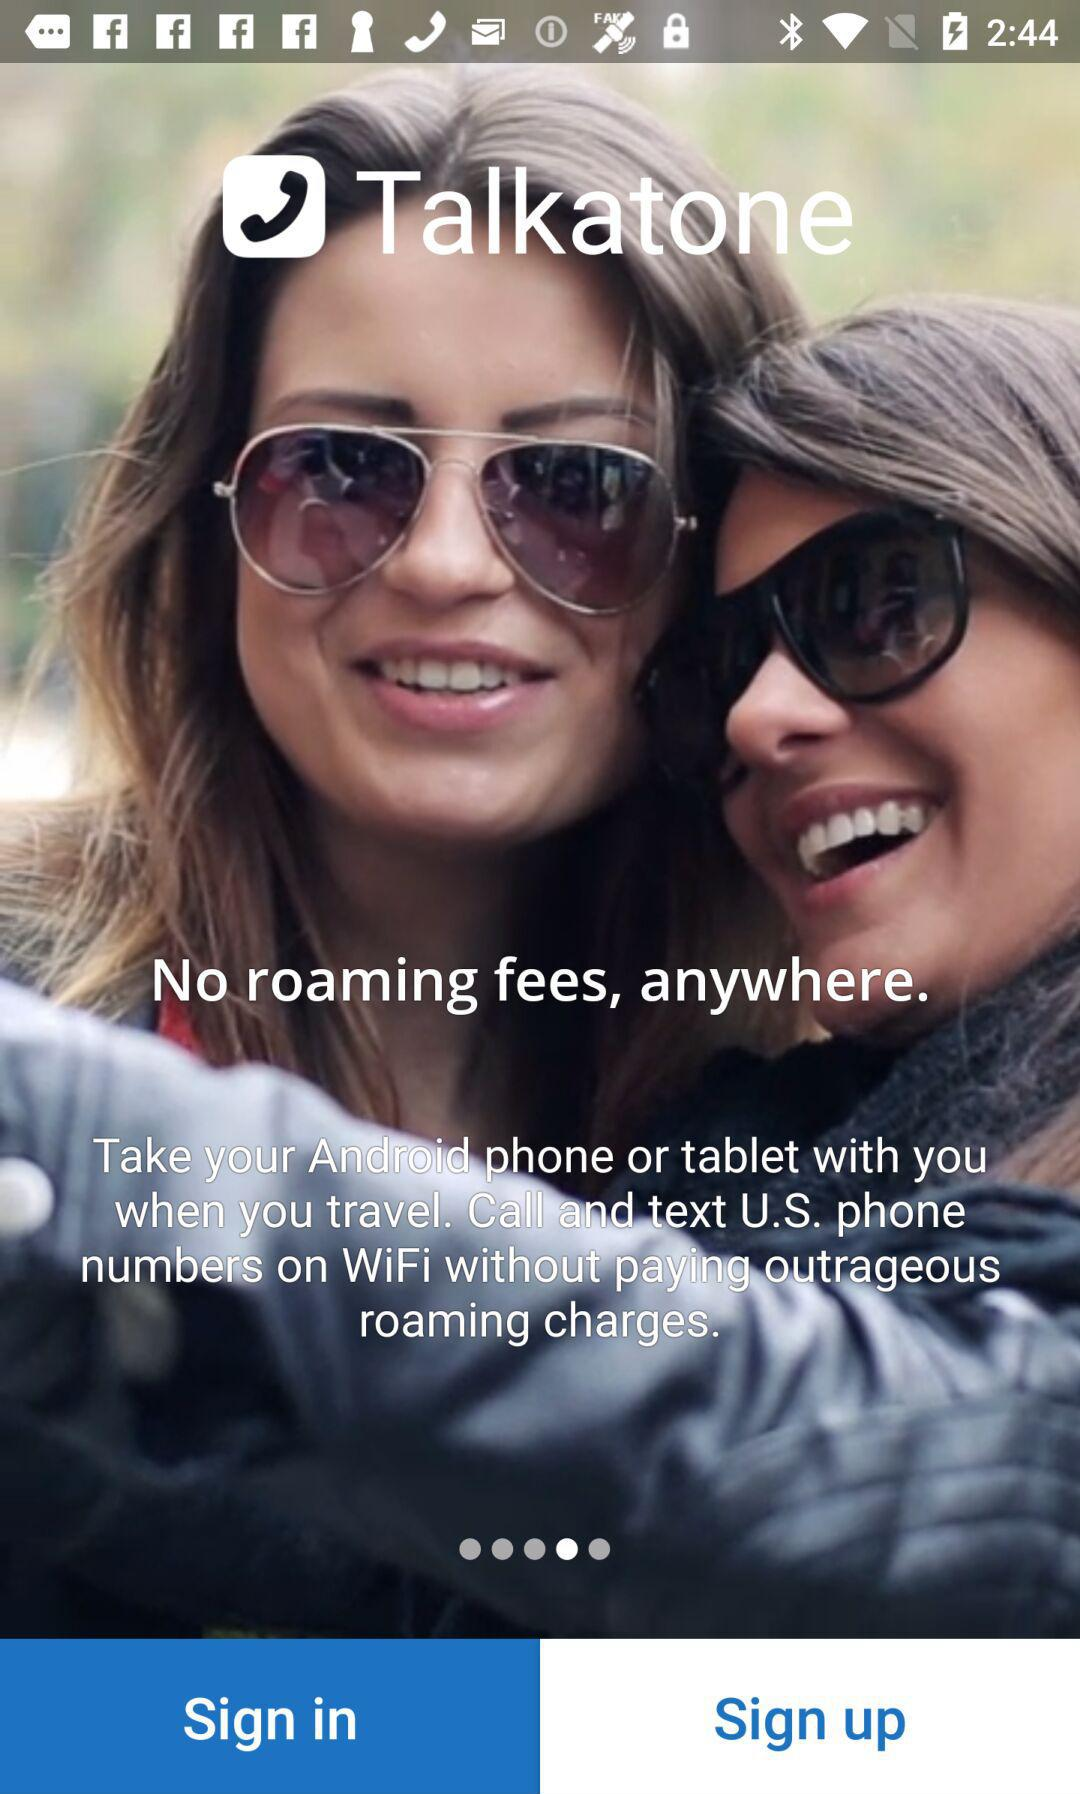BackgroundImage: (1, 64, 1080, 1639)
Image: (223, 155, 327, 259)
PageIndicator: (457, 1536, 612, 1562)
Text: (82, 1135, 1001, 1351), (154, 955, 928, 1017), (356, 167, 853, 258)
TextButton: (541, 1639, 1080, 1794), (1, 1639, 541, 1794)
UpperTaskBar: (1, 1, 1080, 64)
